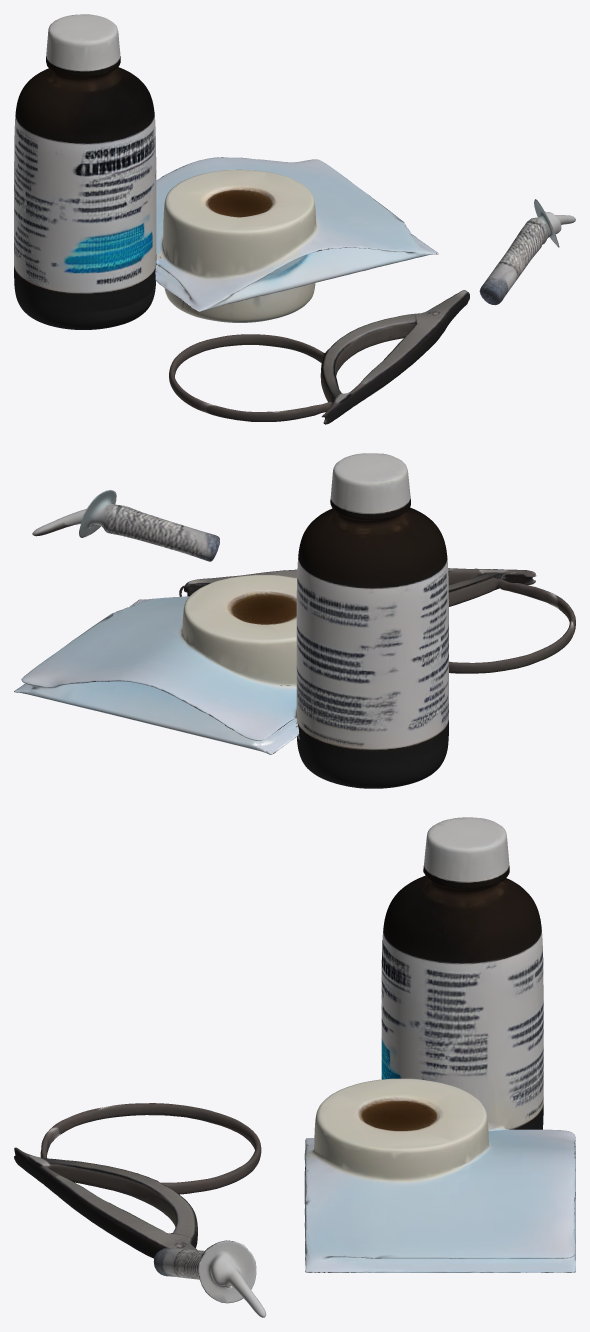
Rendered from vet_equip_wound_care_kit.glb.
The picture shows the model from 3 angles, top to bottom: view 1: azimuth 30°, elevation 25°; view 2: azimuth 150°, elevation 25°; view 3: azimuth 270°, elevation 25°; orthographic projection. The views are drawn at different scales.
Parts seen in each view (by area): view 1: model; view 2: model; view 3: model.
Boxes of the visible parts, <box> form: model: <box>14,14,575,424</box>; model: <box>14,453,575,788</box>; model: <box>14,817,575,1317</box>.
Size of the model in its own units: 1.89 by 1.07 by 1.72.
1 material, 1 textured.
